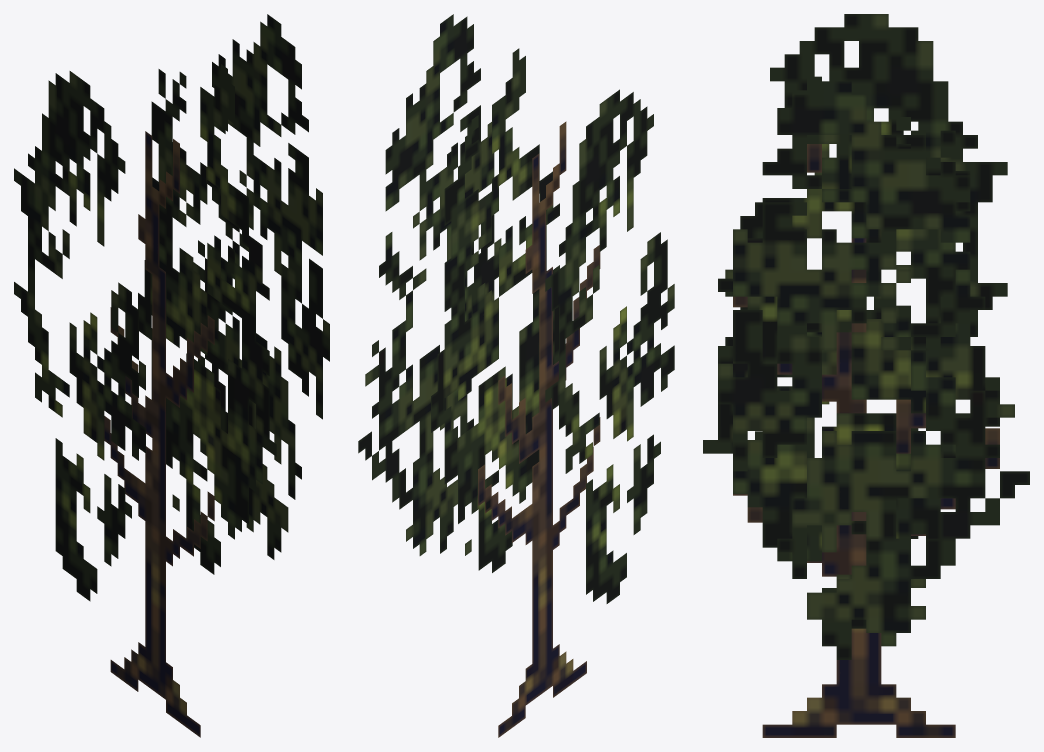
The model's file is ObjMD_Tree_Sea_B.FBX.
3 renders of one model, left to right at view 1: azimuth 30°, elevation 25°; view 2: azimuth 150°, elevation 25°; view 3: azimuth 270°, elevation 25°, orthographic. The views are drawn at different scales.
Parts seen in each view (by area): view 1: ObjMD_Tree_Sea_B; view 2: ObjMD_Tree_Sea_B; view 3: ObjMD_Tree_Sea_B.
Boxes of the visible parts, box(x1,y1,x2,y2) form: ObjMD_Tree_Sea_B: box(14, 14, 329, 737); ObjMD_Tree_Sea_B: box(358, 14, 674, 737); ObjMD_Tree_Sea_B: box(703, 14, 1029, 737).
Bounding box in the file's own units: 93.75 × 331 × 138.
